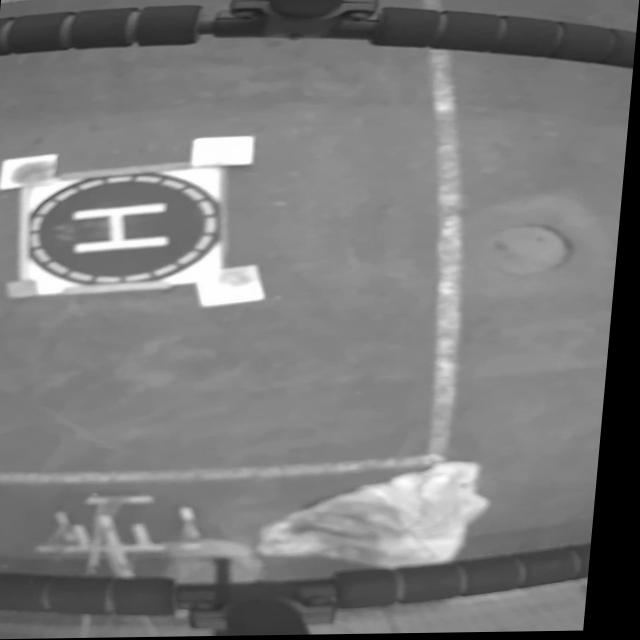Helipad: (73, 203, 171, 253)
